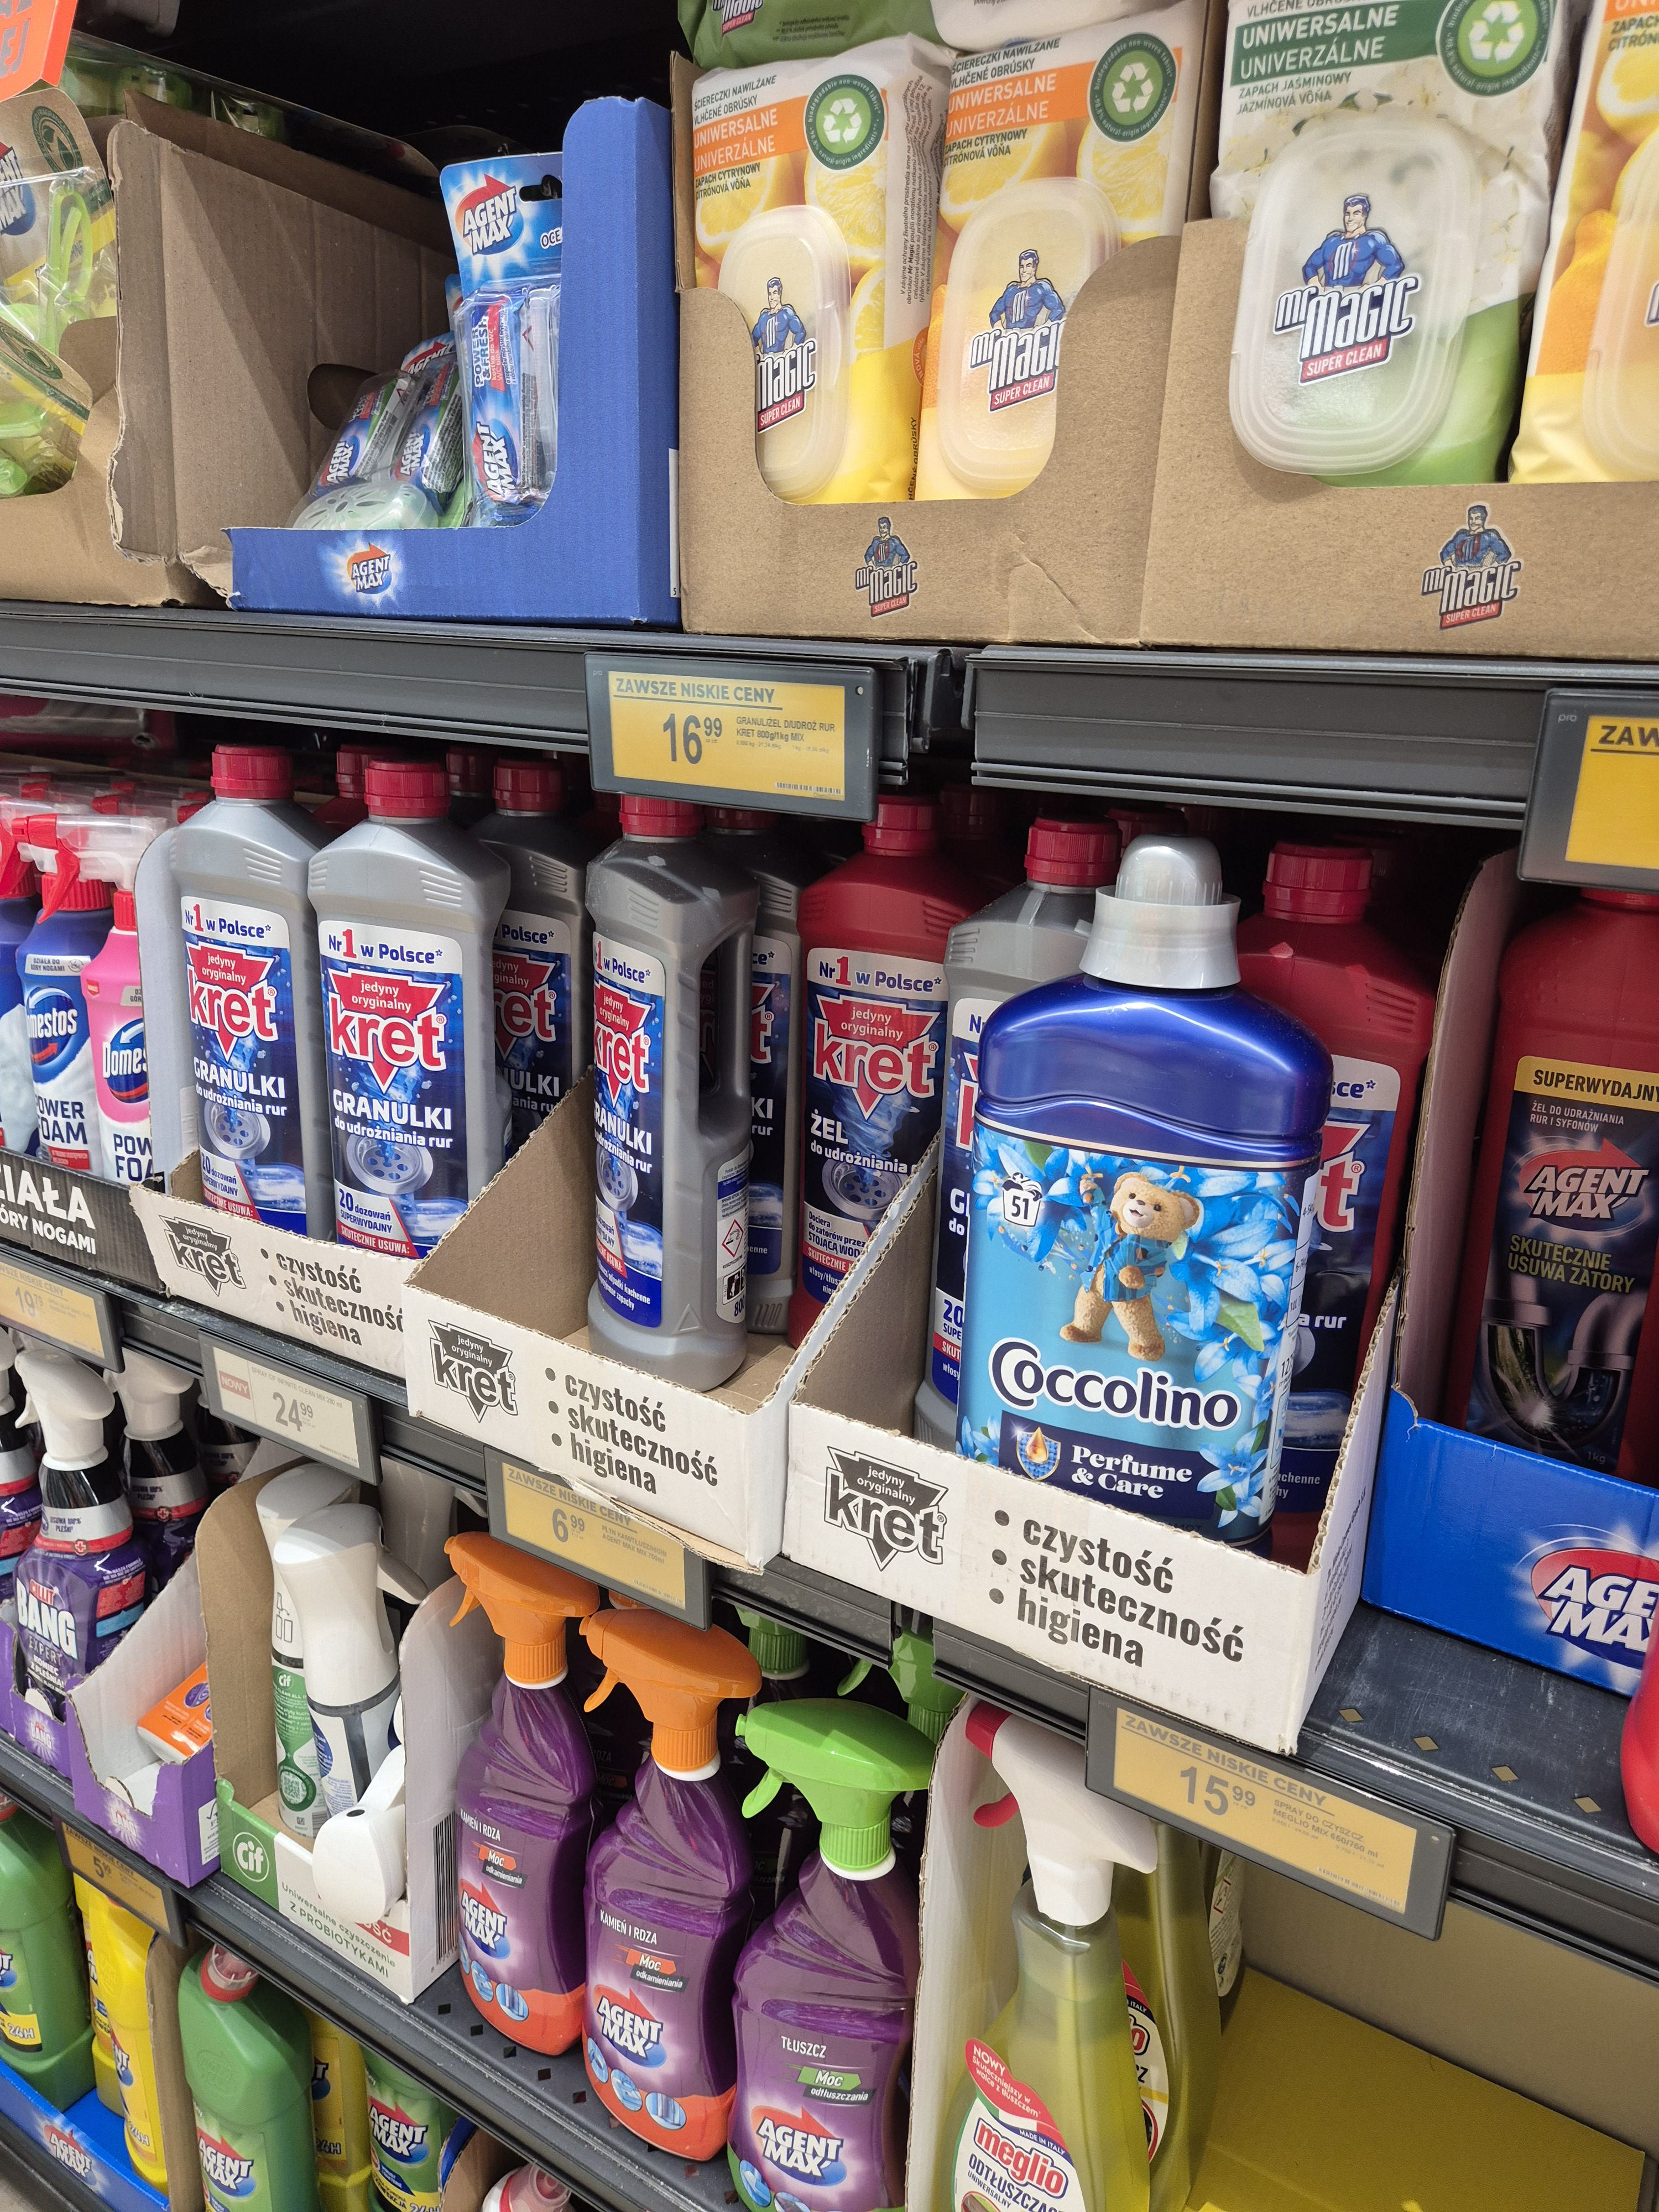cocolino: (967, 812, 1309, 1568)
